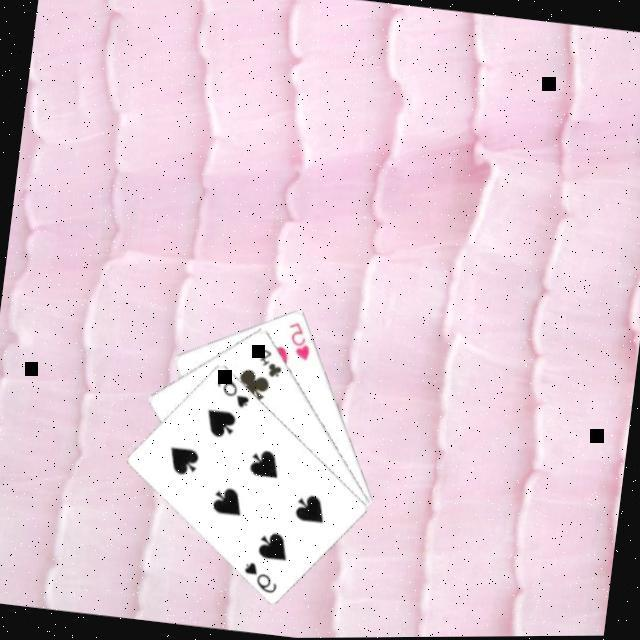4C: (248, 343, 288, 383)
5H: (282, 320, 317, 365)
6S: (210, 374, 254, 414), (238, 558, 282, 598)
